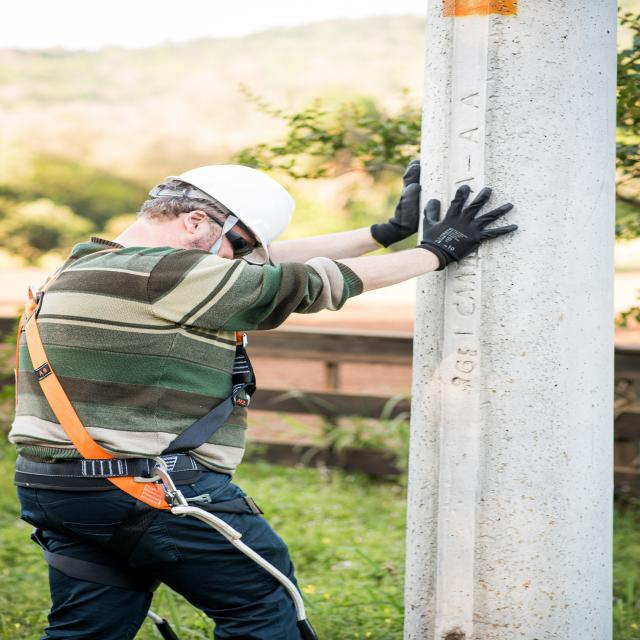capacete: (163, 159, 298, 271)
luva: (417, 181, 523, 280), (368, 158, 428, 250)
